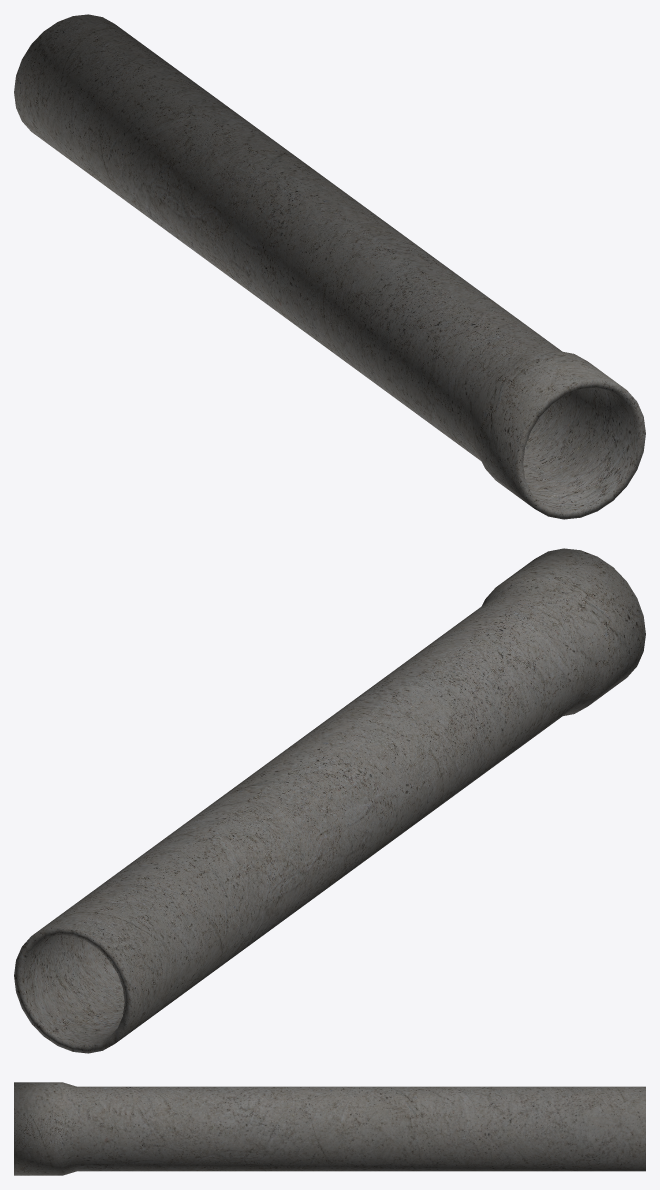
Rendered from concrete_pipe_long.dae.
3 views of the same model, one above another, from view 1: azimuth 30°, elevation 25°; view 2: azimuth 150°, elevation 25°; view 3: azimuth 270°, elevation 25° (orthographic). The views are drawn at different scales.
Visible parts, largest first — view 1: O; view 2: O; view 3: O.
Boxes of the visible parts, <box> form: O: <box>14,14,645,519</box>; O: <box>14,548,645,1053</box>; O: <box>14,1082,645,1175</box>.
Size of the model in its own units: 0.3869 by 2.61 by 0.3869.
1 material, 1 textured.
